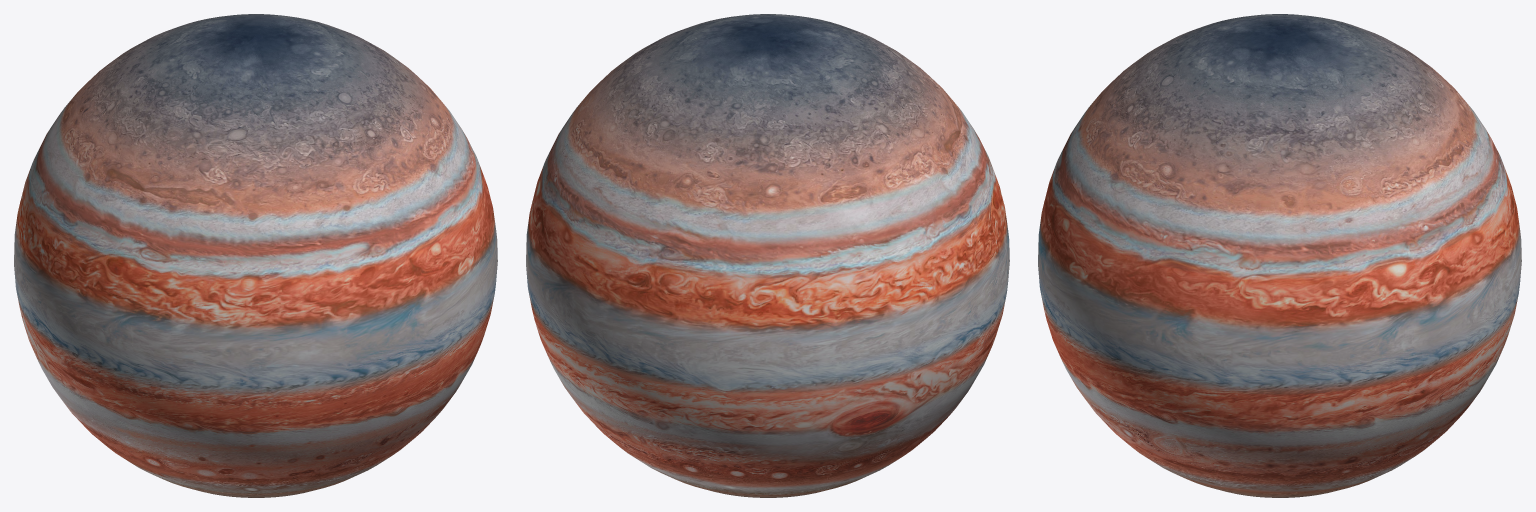
3 views of the same model, side by side, from view 1: azimuth 30°, elevation 25°; view 2: azimuth 150°, elevation 25°; view 3: azimuth 270°, elevation 25° (orthographic).
Visible parts, largest first — view 1: Jupiter; view 2: Jupiter; view 3: Jupiter.
Boxes of the visible parts, x1,y1,x2,y2 form: Jupiter: (14, 14, 497, 497); Jupiter: (526, 14, 1009, 497); Jupiter: (1038, 14, 1521, 497).
Size of what is drawn, in the model's own units: 19.99 by 20 by 19.98.
1 material, 1 textured.
